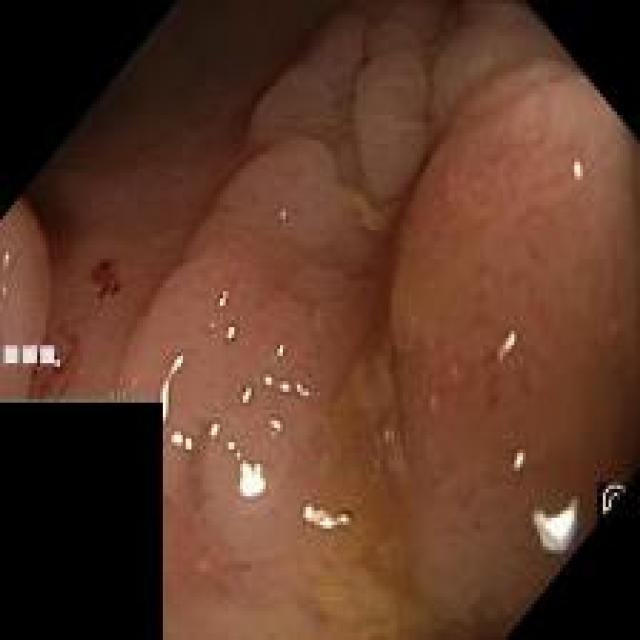Polyps: (391, 50, 640, 639)
